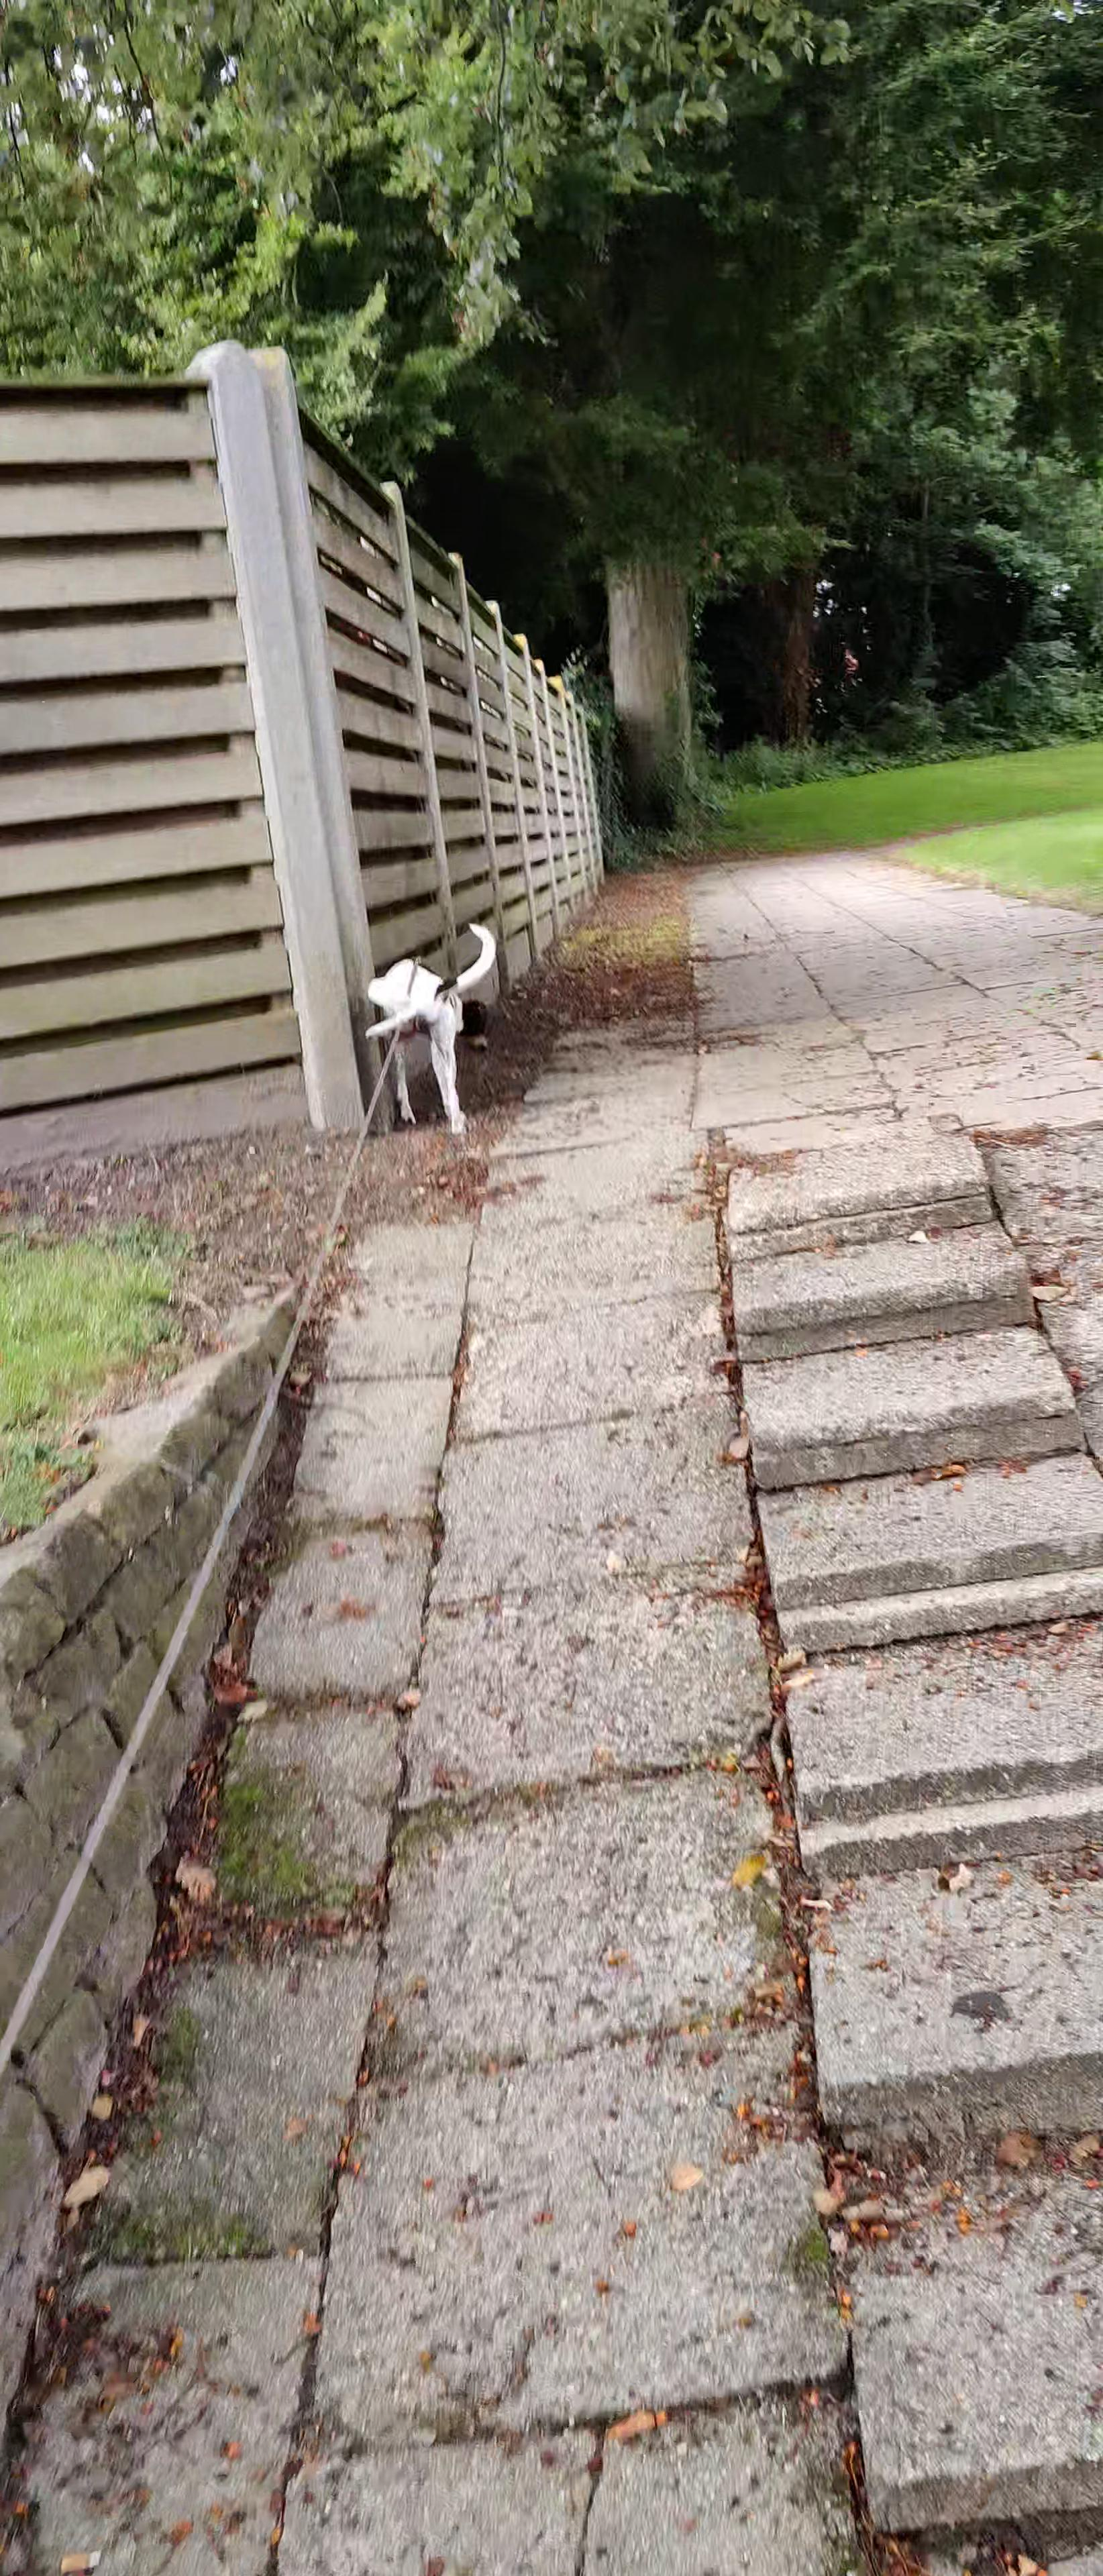Dog: (362, 918, 498, 1135)
